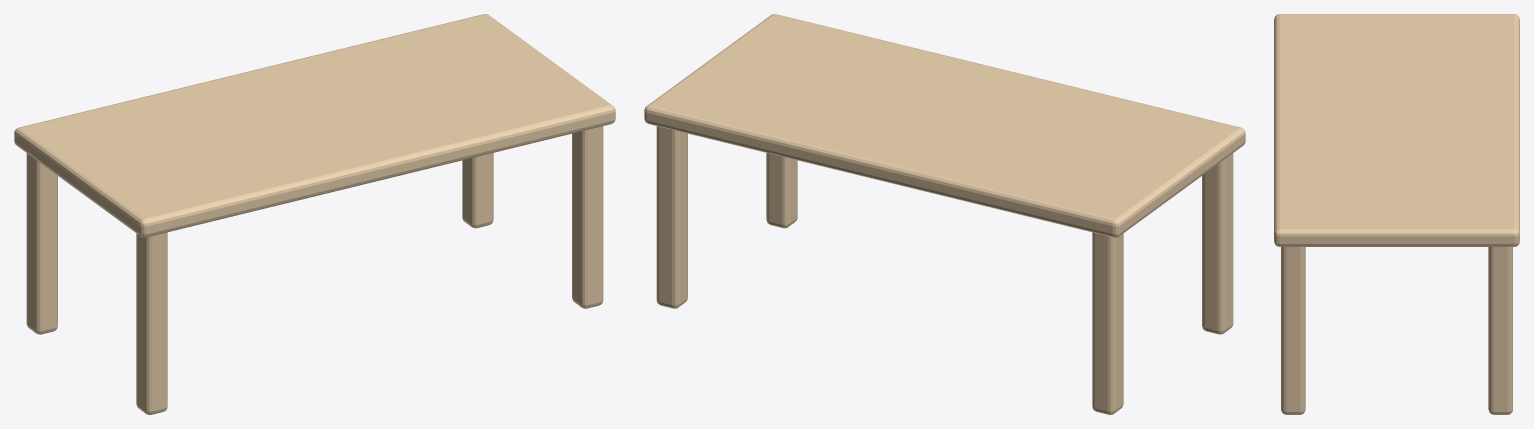
The model's file is Desk.fbx.
3 renders of one model, left to right at view 1: azimuth 30°, elevation 25°; view 2: azimuth 150°, elevation 25°; view 3: azimuth 270°, elevation 25°, orthographic. The views are drawn at different scales.
Visible parts, largest first — view 1: Desk; view 2: Desk; view 3: Desk.
Boxes of the visible parts, x1=… form: Desk: x1=14, y1=14, x2=615, y2=414; Desk: x1=644, y1=14, x2=1245, y2=414; Desk: x1=1274, y1=14, x2=1519, y2=414.
Bounding box in the file's own units: 1.9 × 0.765 × 0.9.
